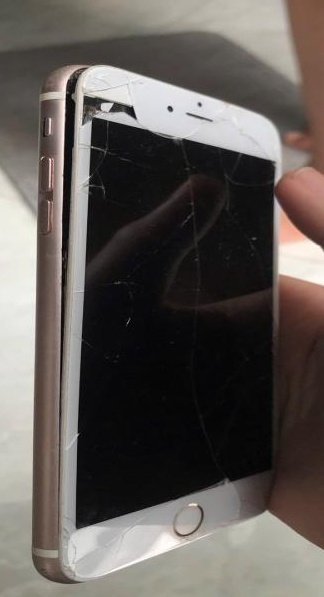physical_damage: (37, 61, 82, 303), (199, 475, 294, 538), (73, 267, 153, 341), (82, 72, 161, 137), (119, 504, 201, 559), (207, 221, 289, 275), (83, 138, 148, 206), (57, 518, 120, 586), (220, 101, 281, 169), (173, 227, 218, 308), (172, 155, 220, 229), (45, 407, 109, 459)
